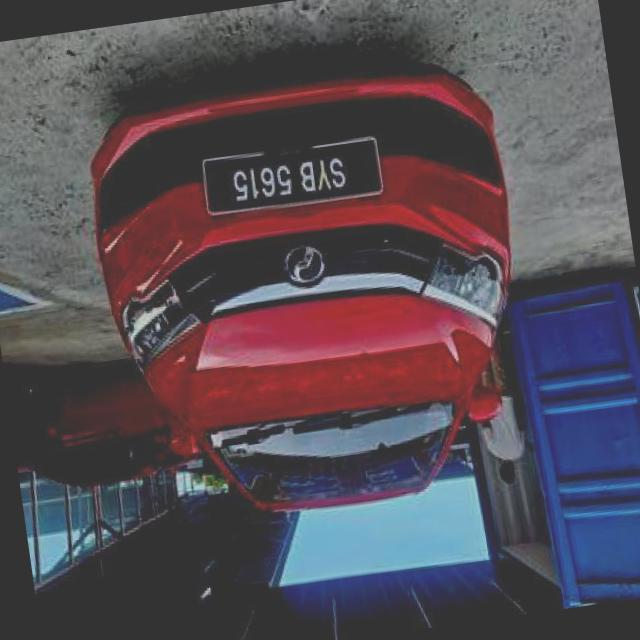PeroduaBezza: (77, 54, 550, 538)
